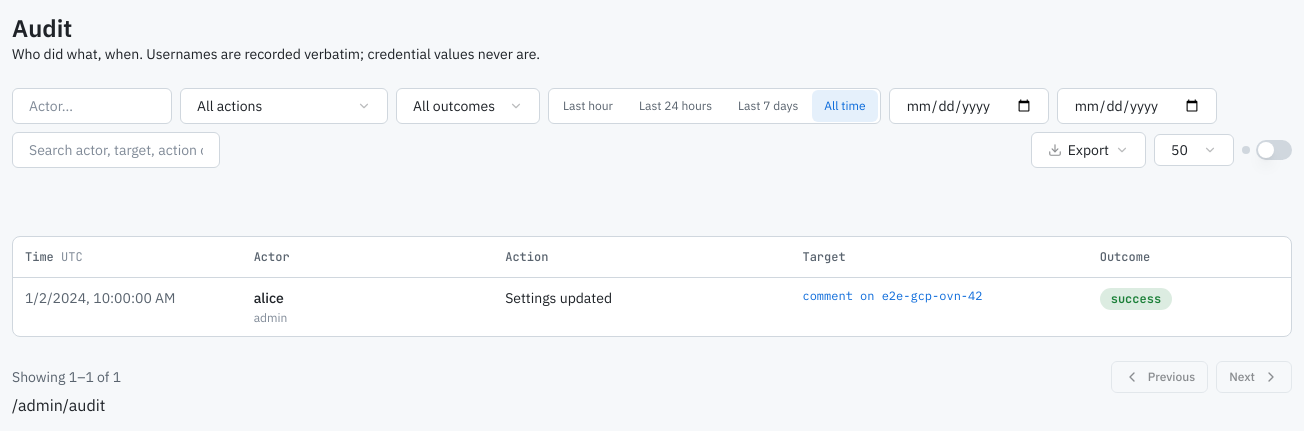
it: AdminAuditPage › links a comment target to the report anchor of its job
Hover over the link "comment on e2e-gcp-ovn-42" at [892, 295], box [802,288,982,302]
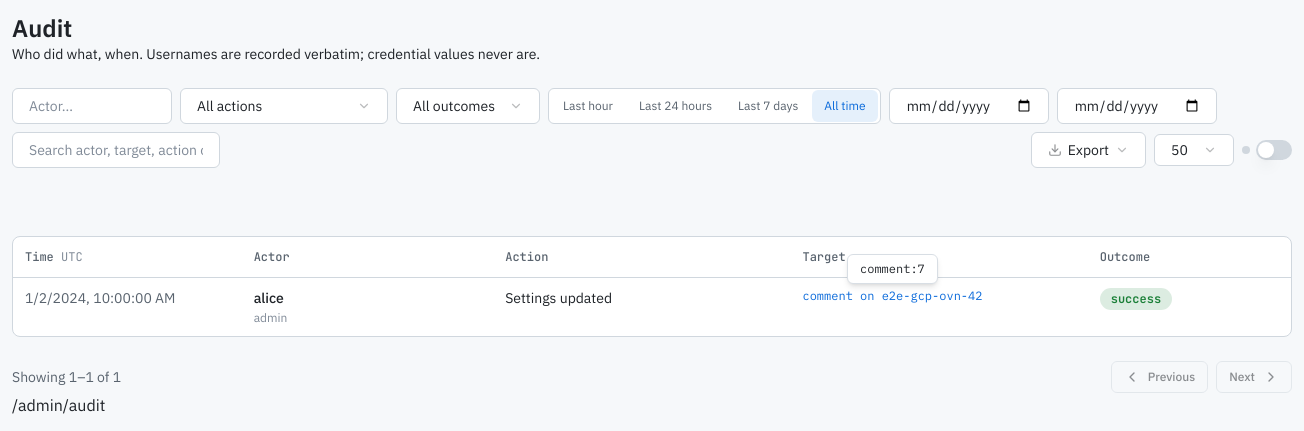
Expected: the tooltip reads "comment:7", [860,261,925,276]
